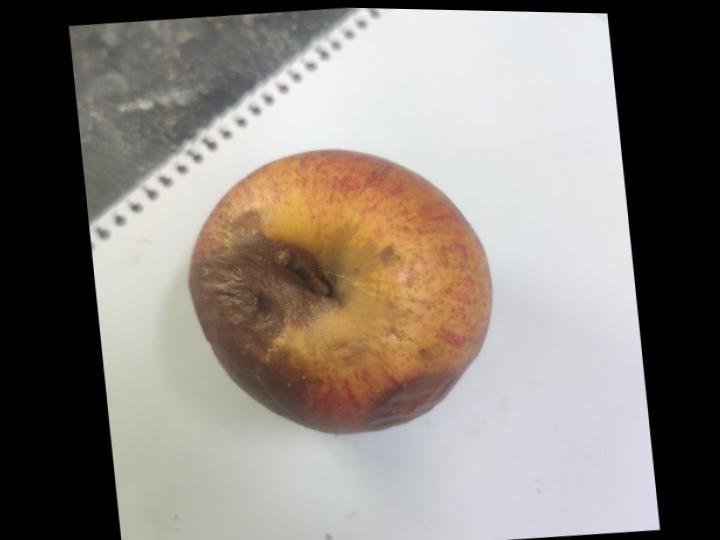apple: (189, 151, 491, 433)
rot_mold_decay: (189, 214, 336, 420), (364, 372, 462, 430)
